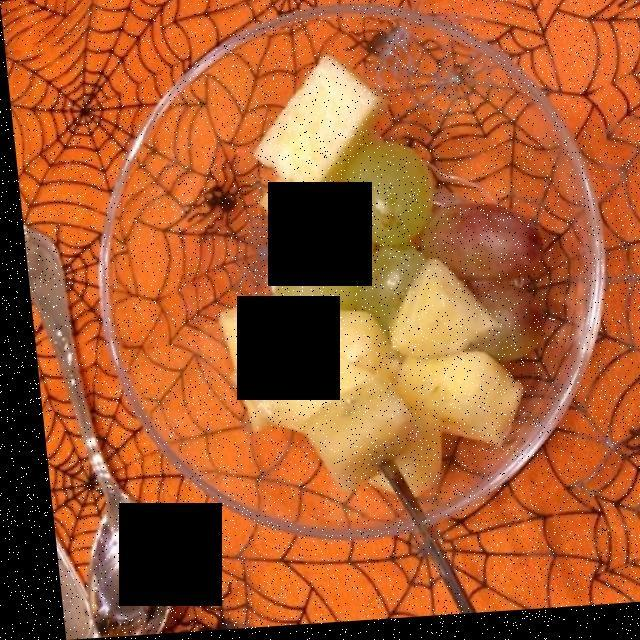fruit-salad: (214, 70, 537, 485)
